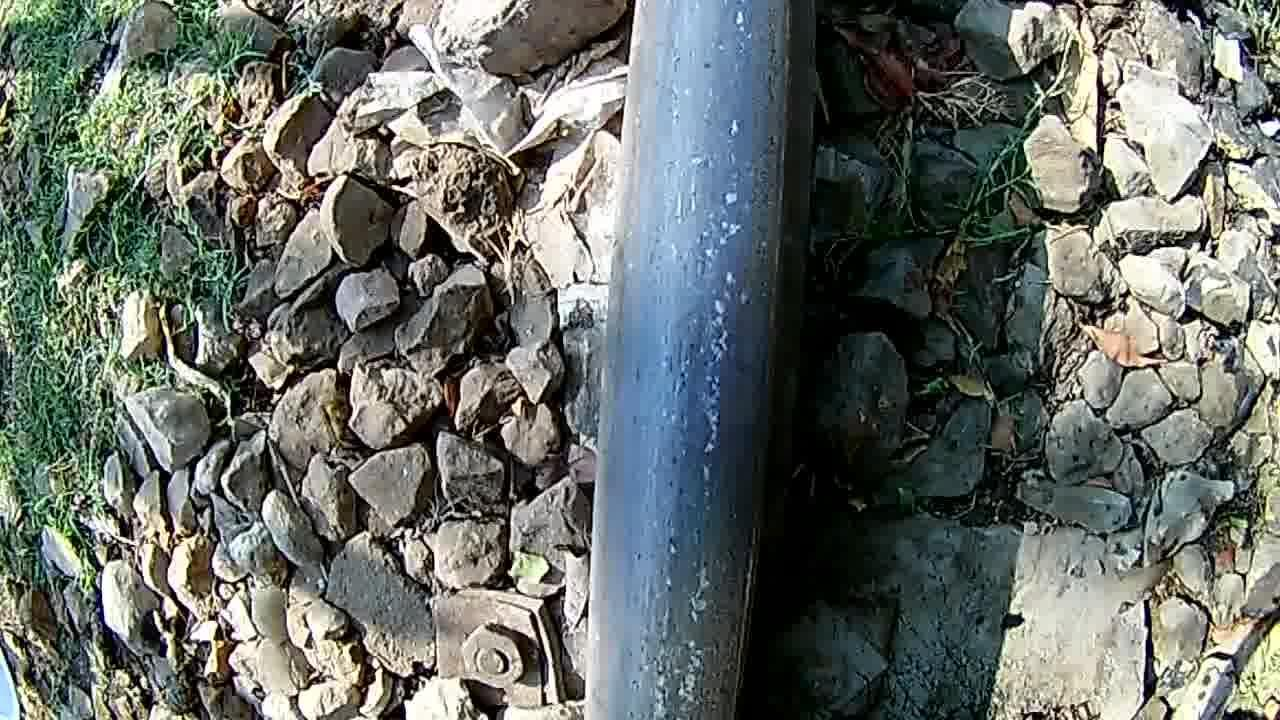crack: (582, 0, 802, 720)
